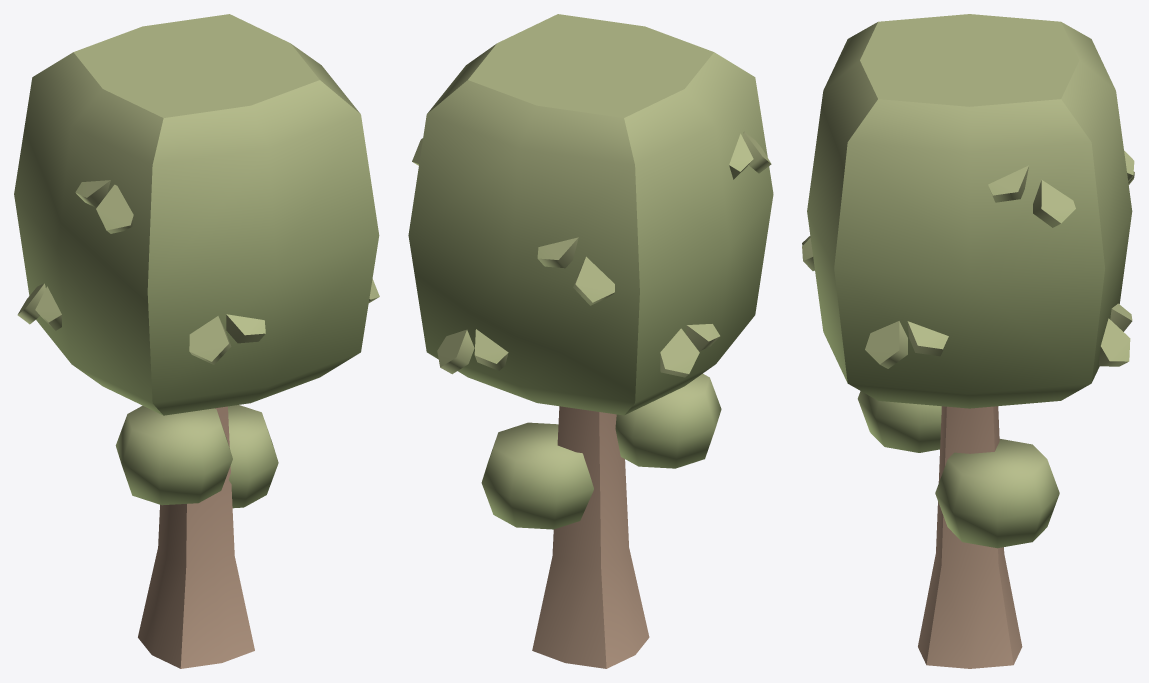
Rendered from tree-default.glb.
The picture shows the model from 3 angles, left to right: view 1: azimuth 30°, elevation 25°; view 2: azimuth 150°, elevation 25°; view 3: azimuth 270°, elevation 25°; orthographic projection.
Visible parts, largest first — view 1: tree-default; view 2: tree-default; view 3: tree-default.
Boxes of the visible parts, x1=… form: tree-default: x1=14, y1=14, x2=379, y2=668; tree-default: x1=408, y1=14, x2=773, y2=668; tree-default: x1=802, y1=14, x2=1134, y2=668.
Size of the model in its own units: 0.7027 by 1.39 by 0.7149.
